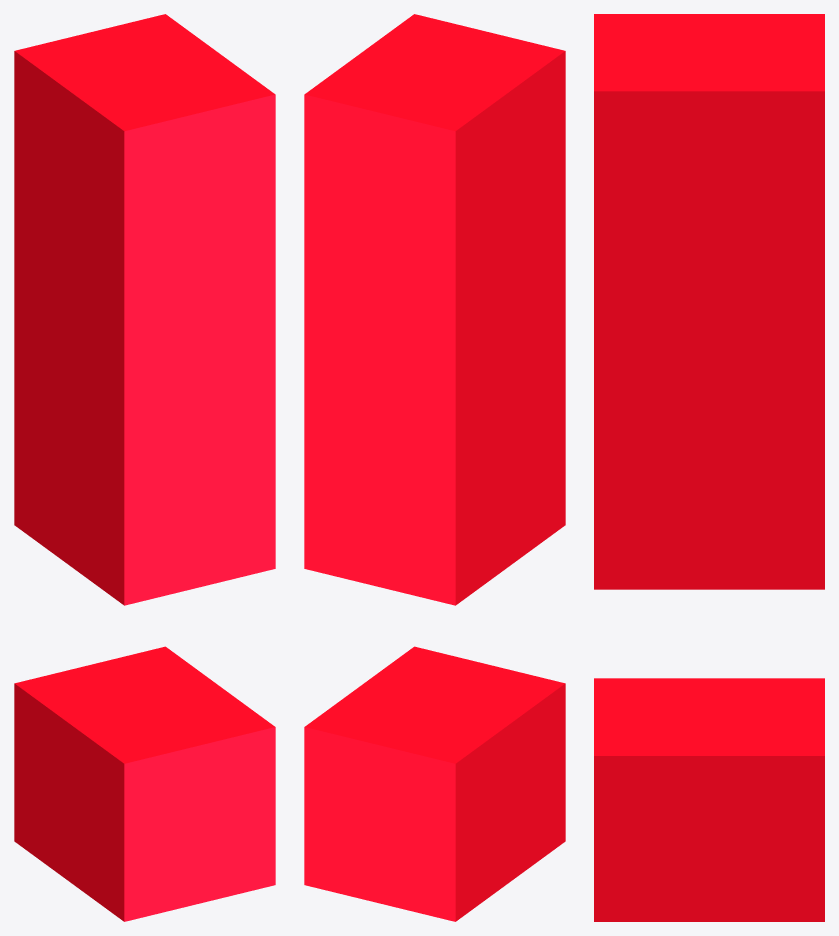
The model's file is dc9ade80-8cec-46f0-8d6b-3e4048a3757f.glb.
3 renders of one model, left to right at view 1: azimuth 30°, elevation 25°; view 2: azimuth 150°, elevation 25°; view 3: azimuth 270°, elevation 25°, orthographic. The views are drawn at different scales.
Parts seen in each view (by area): view 1: !_DeltaBlock_Red; view 2: !_DeltaBlock_Red; view 3: !_DeltaBlock_Red.
Boxes of the visible parts, bbox=[...] form: !_DeltaBlock_Red: bbox=[14, 14, 275, 921]; !_DeltaBlock_Red: bbox=[304, 14, 565, 921]; !_DeltaBlock_Red: bbox=[594, 14, 824, 921].
Size of what is drawn, in the model's own units: 0.0357 by 0.1786 by 0.045.
2 materials, 2 textured.
